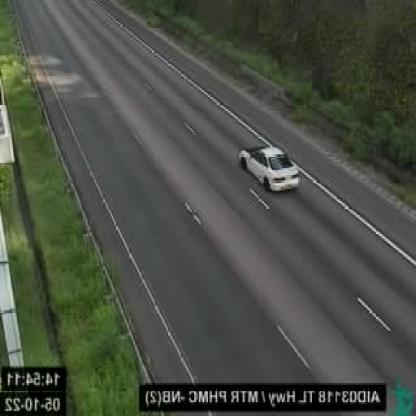Car: (242, 144, 301, 191)
